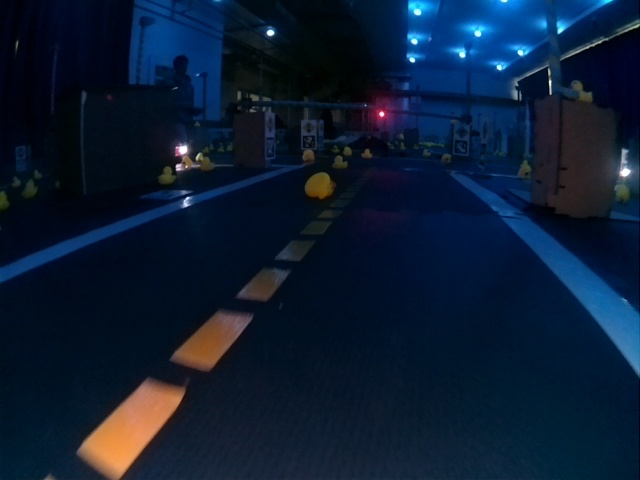Duckie: (305, 173, 334, 200), (569, 80, 592, 101), (613, 184, 630, 204), (23, 183, 39, 198), (159, 168, 176, 181), (200, 158, 214, 171), (332, 156, 346, 169), (518, 165, 530, 179), (303, 150, 314, 160), (441, 153, 451, 163), (181, 159, 191, 169), (363, 150, 372, 159)
Intersection sign: (456, 126, 468, 138)
QR code: (454, 140, 468, 155), (266, 137, 274, 158), (302, 136, 315, 148)
Signal sign: (265, 115, 275, 135), (302, 122, 315, 134)
Traffic light: (376, 109, 386, 119)
